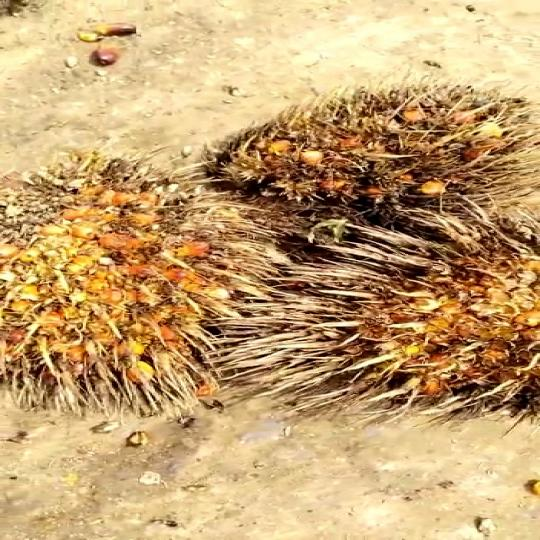terlalu masak: (228, 215, 540, 408), (0, 164, 241, 404), (202, 94, 540, 206)
